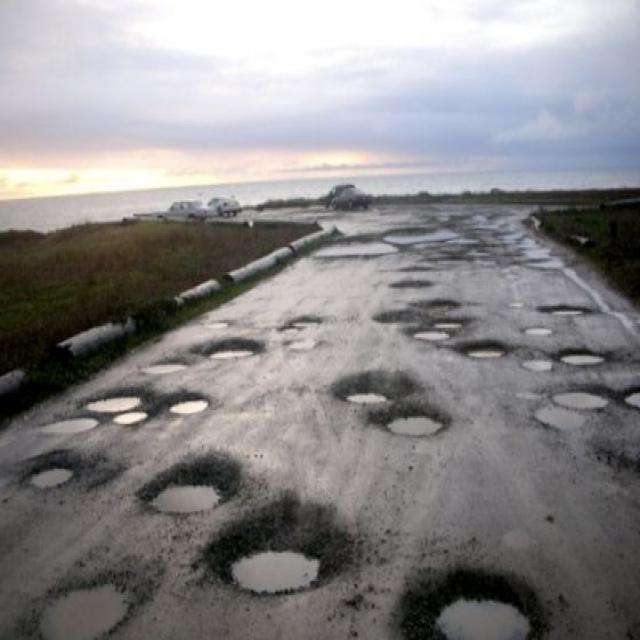Pothole: (209, 503, 358, 598), (401, 563, 545, 639), (28, 567, 149, 639), (137, 449, 257, 516), (531, 381, 612, 436), (327, 368, 412, 404), (369, 400, 456, 435), (26, 451, 80, 493), (196, 333, 267, 364), (80, 384, 148, 415), (410, 312, 471, 345), (36, 413, 105, 435), (170, 390, 219, 415), (555, 347, 607, 369), (460, 338, 514, 356), (112, 409, 150, 425)
